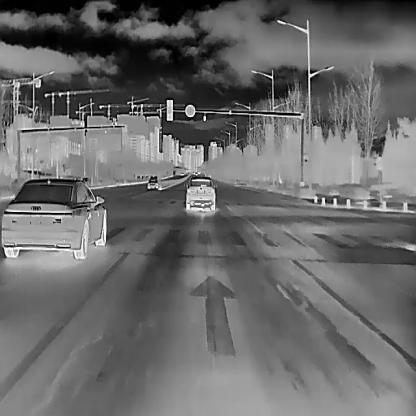car: (1, 177, 106, 258), (183, 176, 217, 209), (146, 176, 158, 188)
